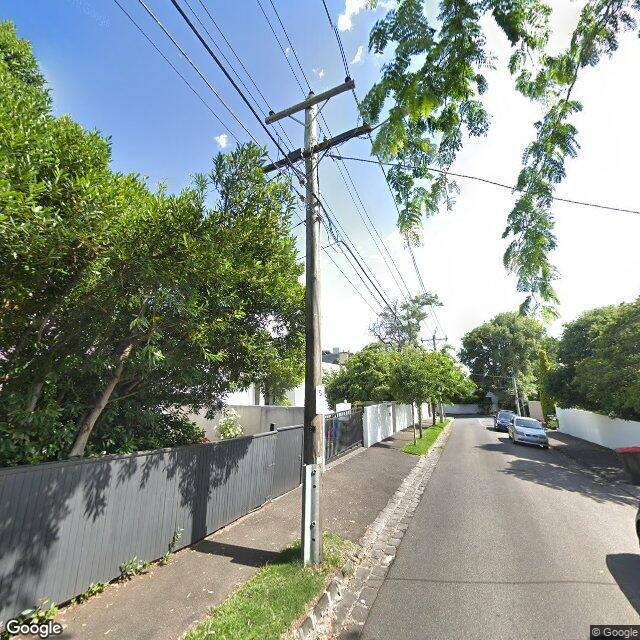HV-transmission: (264, 76, 356, 124), (420, 334, 448, 343)
crossarm: (236, 120, 372, 179), (265, 79, 355, 125), (420, 337, 448, 342)
timber-pole: (302, 94, 323, 566), (432, 335, 444, 423)
